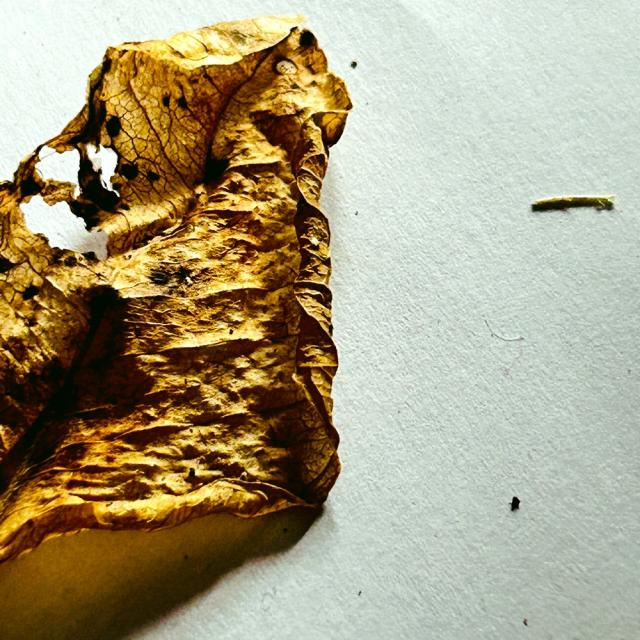DryLeaf_Lemon: (0, 18, 352, 561)
